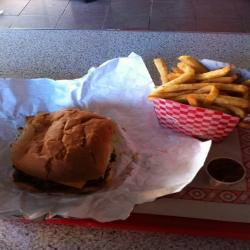burger: (10, 108, 131, 202)
fries: (153, 51, 250, 128)
